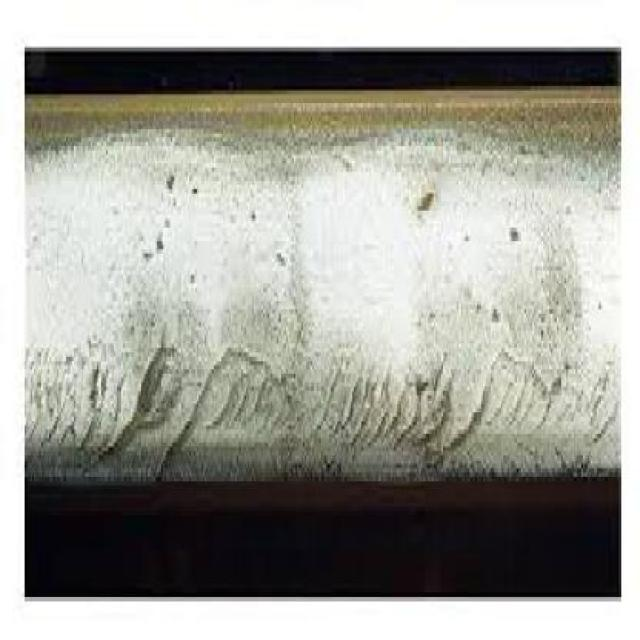defective: (26, 54, 640, 534)
